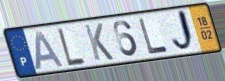6: (113, 20, 140, 59)
A: (35, 29, 66, 71)
J: (171, 8, 198, 56)
K: (82, 22, 116, 62)
L: (56, 27, 88, 68), (137, 17, 170, 56)
